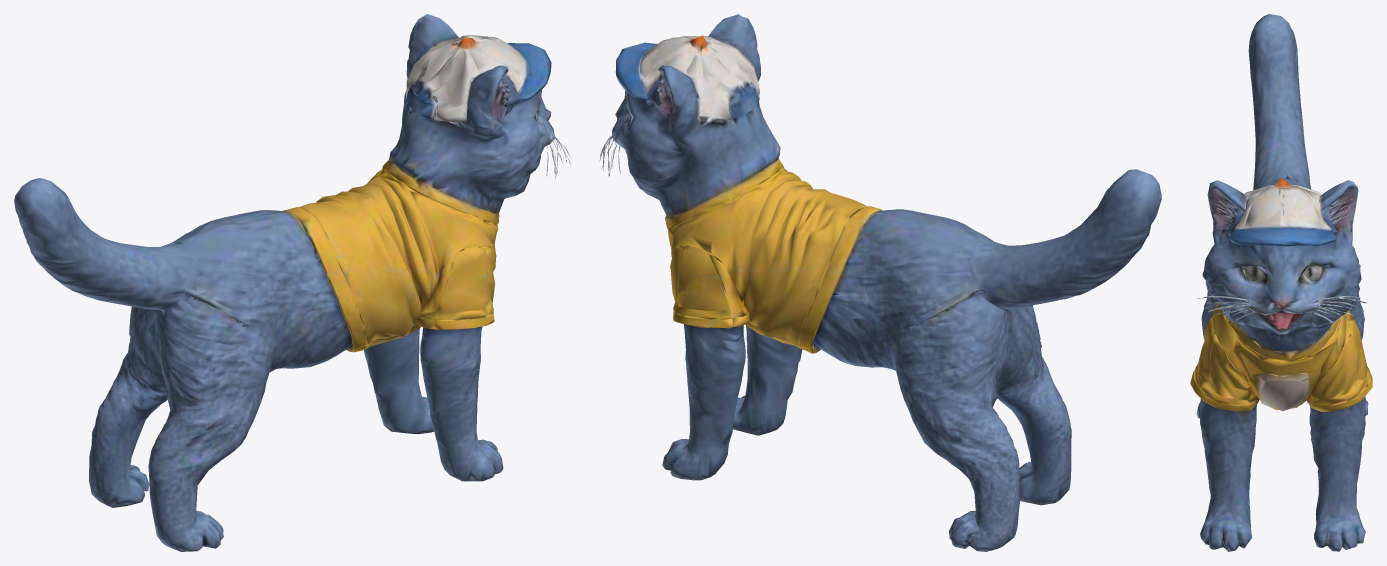
The model's file is COOLBLUE-lo.glb.
3 renders of one model, left to right at view 1: azimuth 30°, elevation 25°; view 2: azimuth 150°, elevation 25°; view 3: azimuth 270°, elevation 25°, orthographic. The views are drawn at different scales.
Visible parts, largest first — view 1: tripo_node_a90abf23-28dd-4ba5-aa91-ad6706fa4d85; view 2: tripo_node_a90abf23-28dd-4ba5-aa91-ad6706fa4d85; view 3: tripo_node_a90abf23-28dd-4ba5-aa91-ad6706fa4d85.
Boxes of the visible parts, <box> form: tripo_node_a90abf23-28dd-4ba5-aa91-ad6706fa4d85: <box>14,14,570,551</box>; tripo_node_a90abf23-28dd-4ba5-aa91-ad6706fa4d85: <box>599,14,1161,551</box>; tripo_node_a90abf23-28dd-4ba5-aa91-ad6706fa4d85: <box>1190,14,1372,551</box>.
Size of the model in its own units: 1.37 by 0.9976 by 0.44.
1 material, 1 textured.
